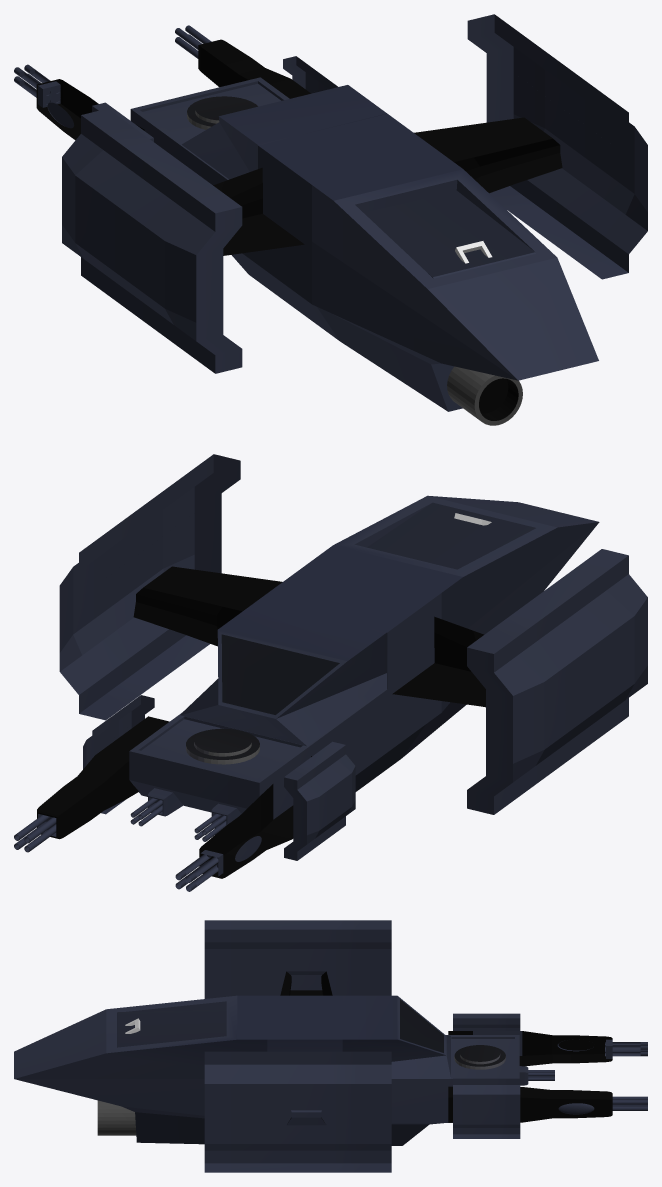
File: ShipV2.glb
3 views of the same model, one above another, from view 1: azimuth 30°, elevation 25°; view 2: azimuth 150°, elevation 25°; view 3: azimuth 270°, elevation 25° (orthographic). The views are drawn at different scales.
Visible parts, largest first — view 1: Ship; view 2: Ship; view 3: Ship.
Boxes of the visible parts, x1,y1,x2,y2 form: Ship: (14, 14, 647, 425); Ship: (14, 454, 647, 891); Ship: (14, 920, 647, 1172).
Bounding box in the file's own units: 15.13 × 6.41 × 25.41.
Materials: 1 (1 with a texture image).
